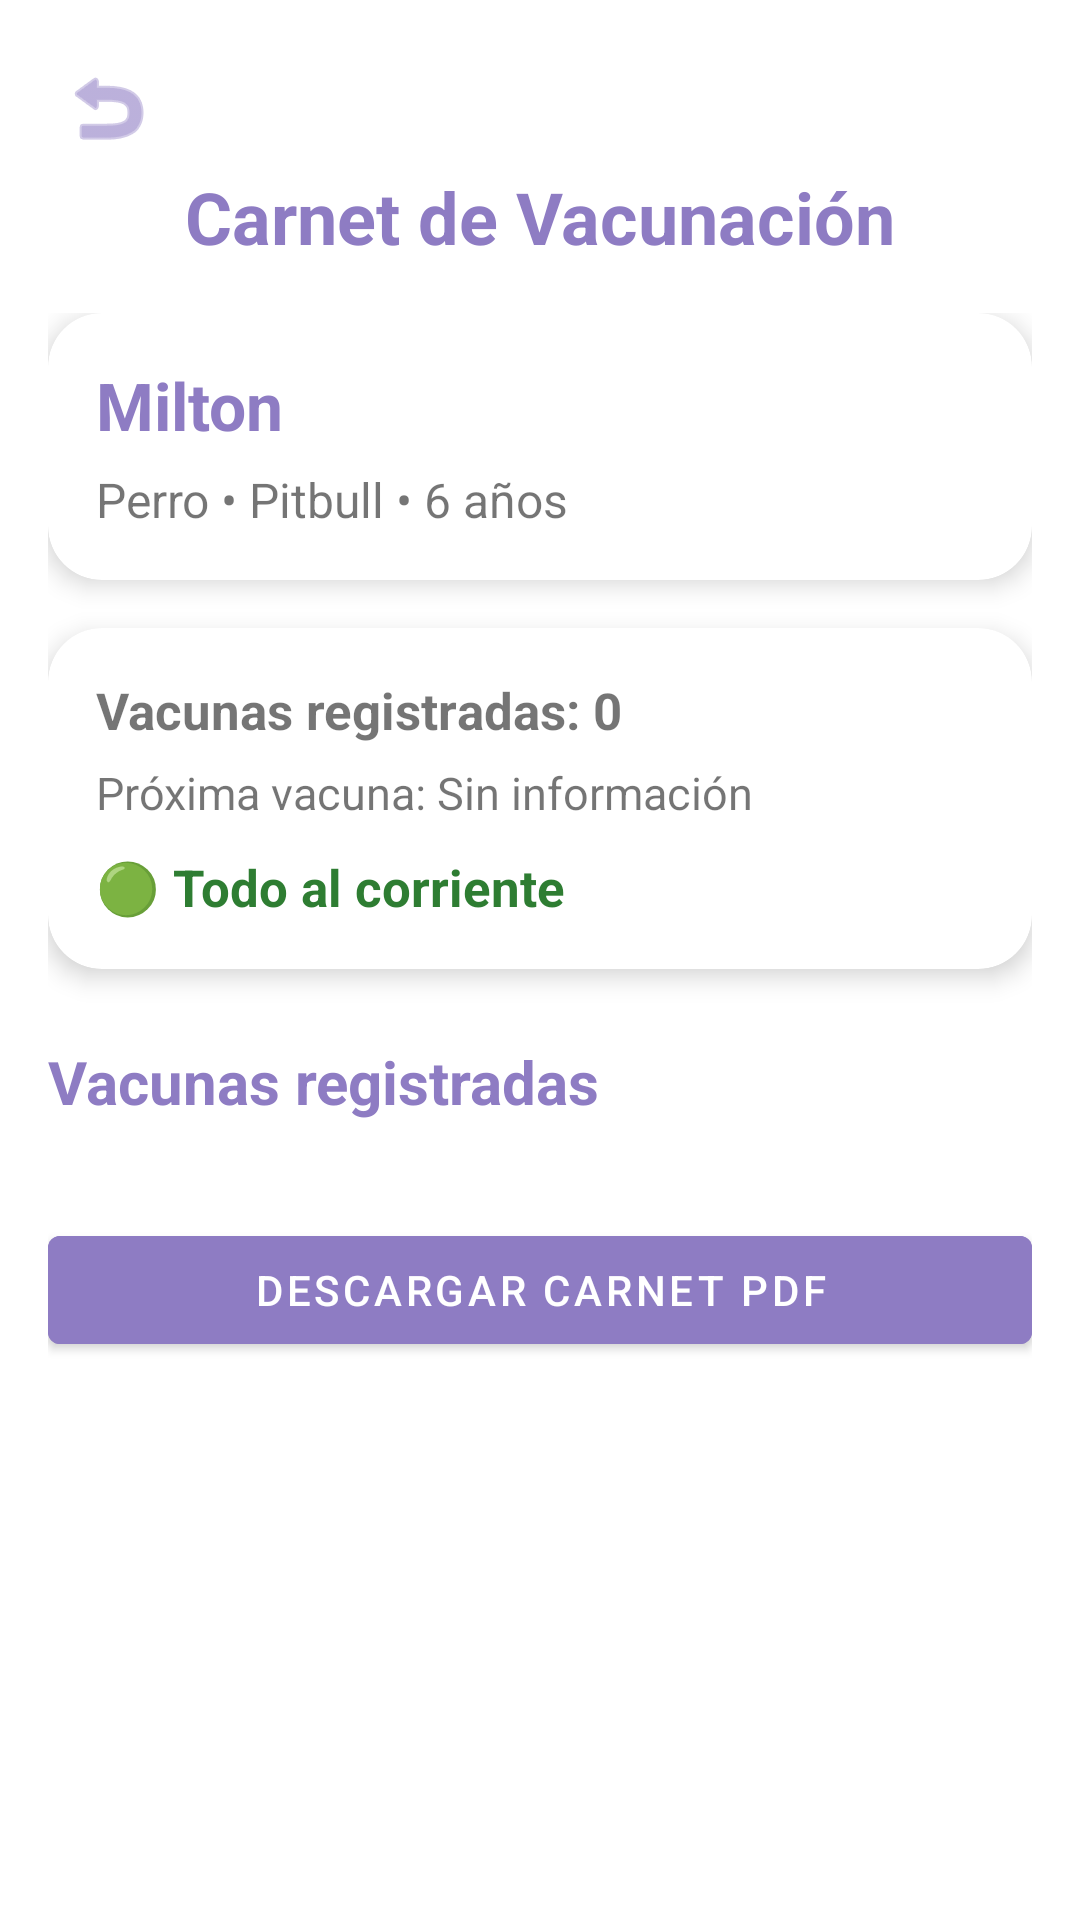

Where icons sit on this 1080×1920 app screen, as bbox=(x1, y1, x2, y2):
Regresar: bbox=(75, 78, 144, 140)
